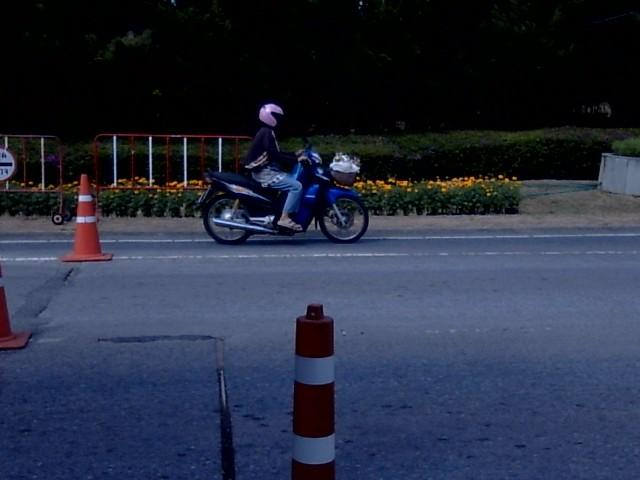helmet: (259, 102, 283, 127)
motor: (196, 137, 367, 243)
person: (243, 104, 309, 230)
